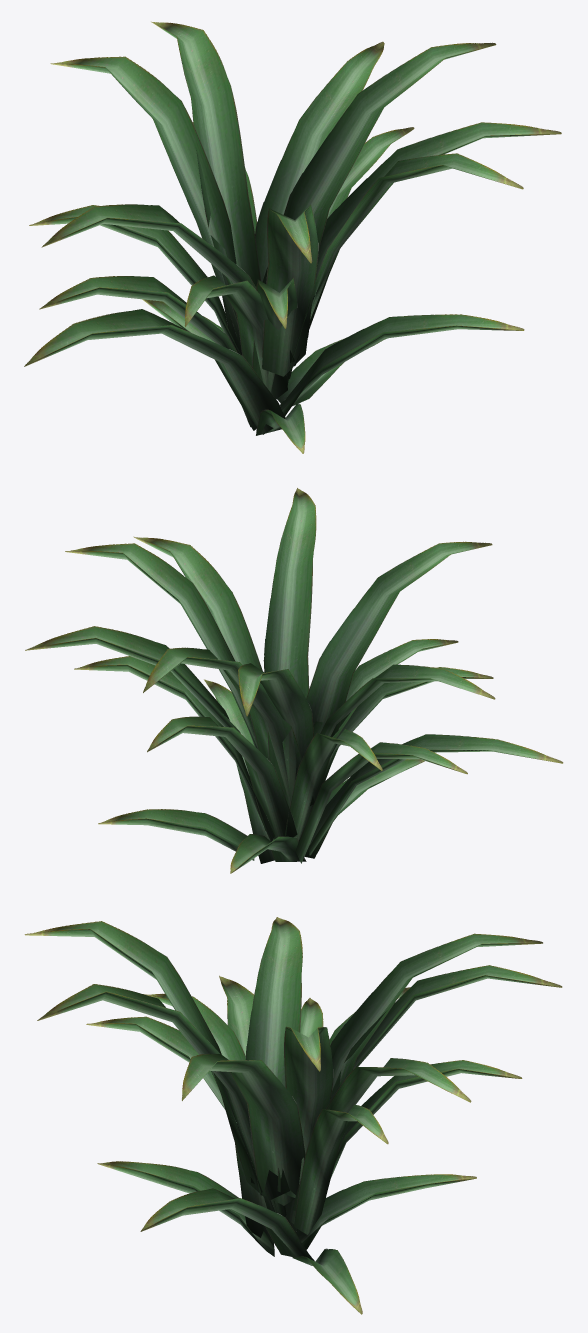
File: Yucca04.FBX
3 views of the same model, one above another, from view 1: azimuth 30°, elevation 25°; view 2: azimuth 150°, elevation 25°; view 3: azimuth 270°, elevation 25° (orthographic). The views are drawn at different scales.
Parts seen in each view (by area): view 1: Yucca02; view 2: Yucca02; view 3: Yucca02.
Part boxes in pixels (x1,y1,x2,y2): Yucca02: (24, 21, 561, 453); Yucca02: (25, 488, 563, 873); Yucca02: (24, 917, 562, 1314).
Size of the model in its own units: 140 by 82.06 by 130.
